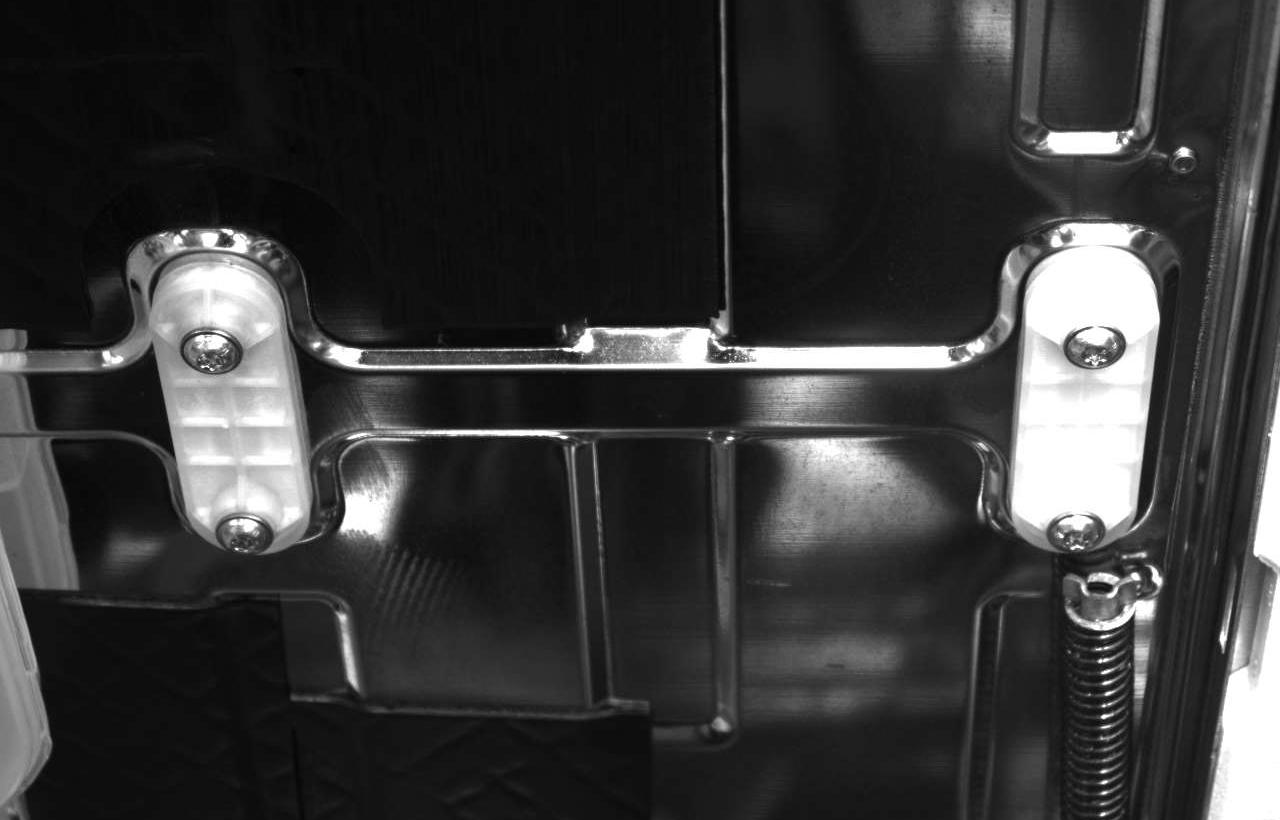vida-ok: (173, 318, 244, 385), (1061, 314, 1129, 381), (210, 505, 276, 564), (1040, 498, 1106, 557)
